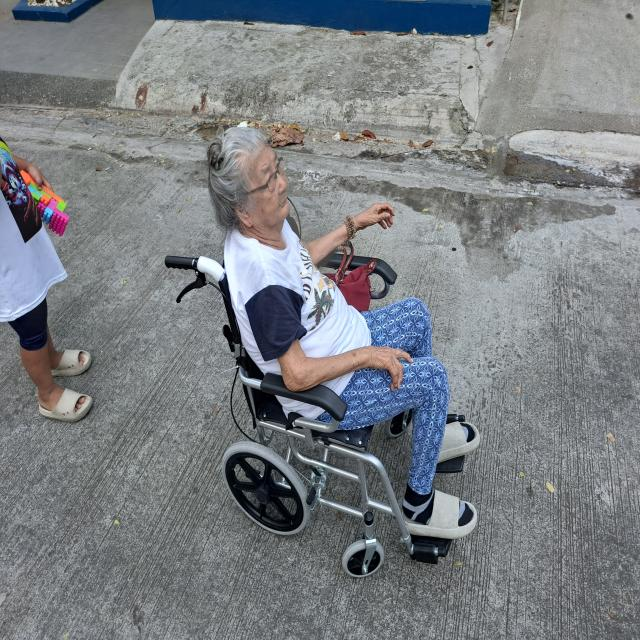wheelchairs: (161, 222, 473, 588)
